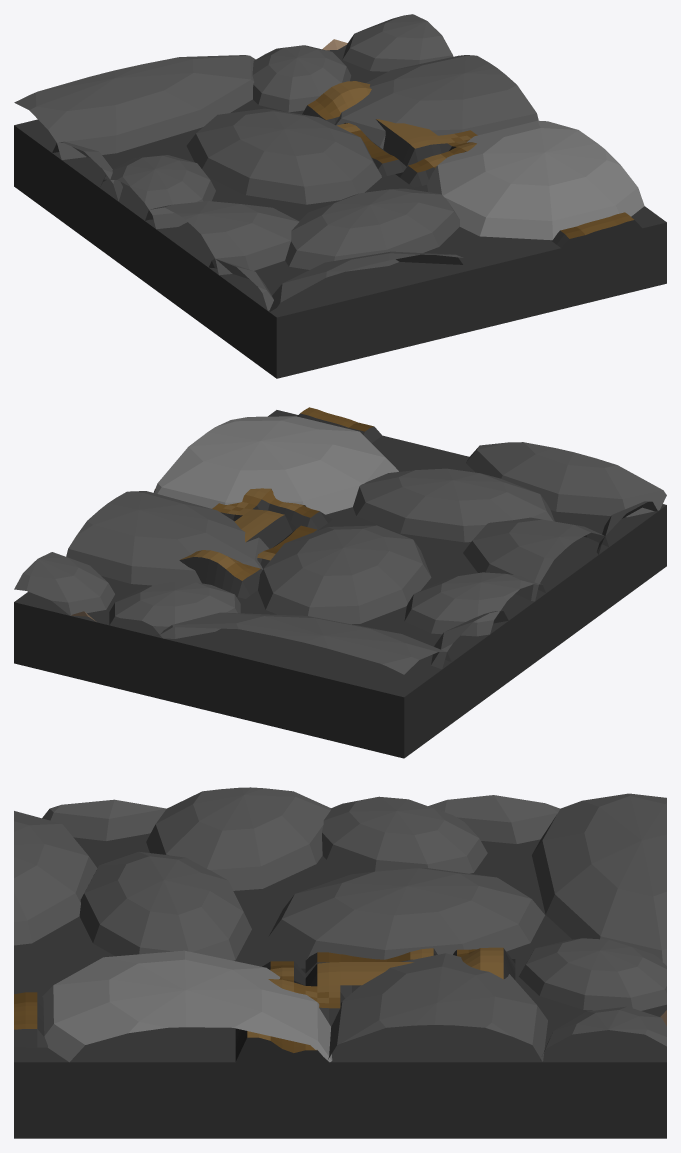
3 views of the same model, one above another, from view 1: azimuth 30°, elevation 25°; view 2: azimuth 150°, elevation 25°; view 3: azimuth 270°, elevation 25° (orthographic). The views are drawn at different scales.
Parts seen in each view (by area): view 1: shapesz-t187; view 2: shapesz-t187; view 3: shapesz-t187.
Part boxes in pixels (x1,y1,x2,y2): shapesz-t187: (14,14,666,378); shapesz-t187: (14,407,666,758); shapesz-t187: (14,787,666,1138).
Size of the model in its own units: 2 by 0.458 by 2.33.
